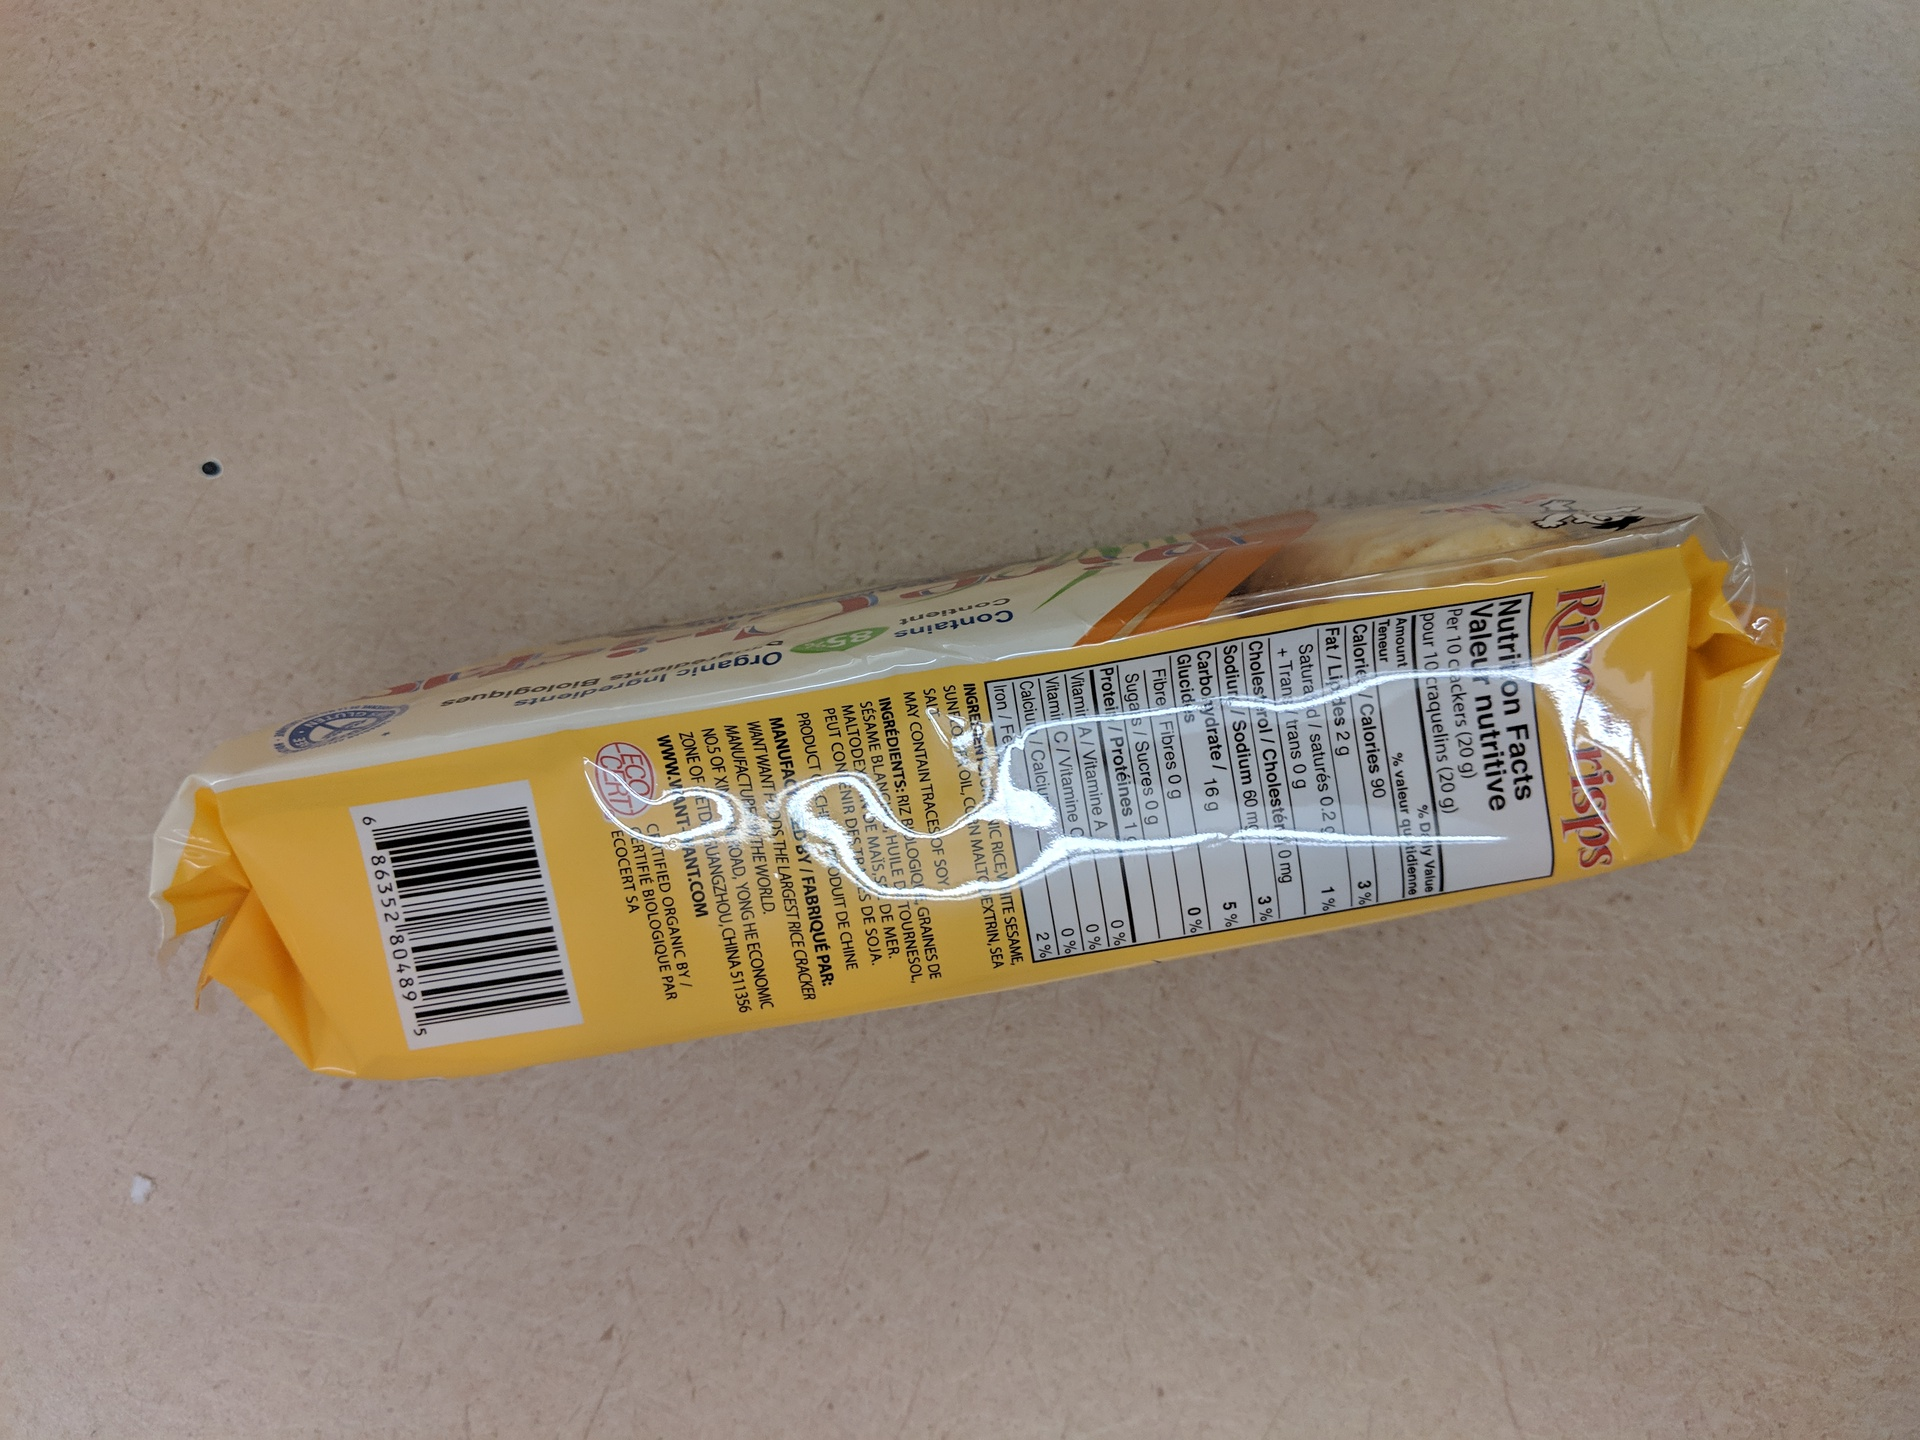hot_kid_rice_crisps_sesame: (147, 473, 1797, 1086)
